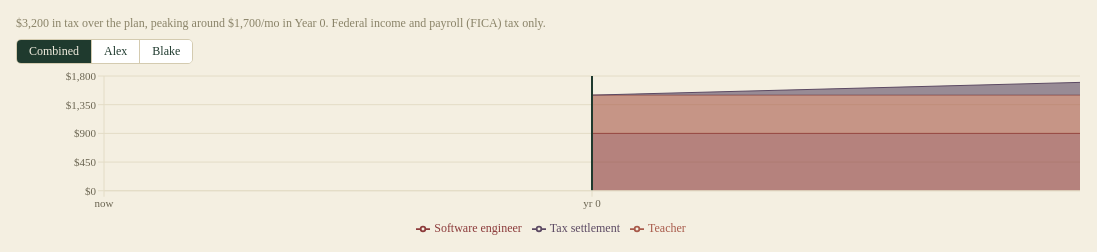
TaxChart — whose tax › gives a person their own peak month, not the household's
The image size is (1097, 252).
Expected: the text with test id "tax-summary" shows "peaking around $1,700/mo", [16,16,546,30]
Click the button "Alex".
click(115, 52)  # box [91,40,139,63]
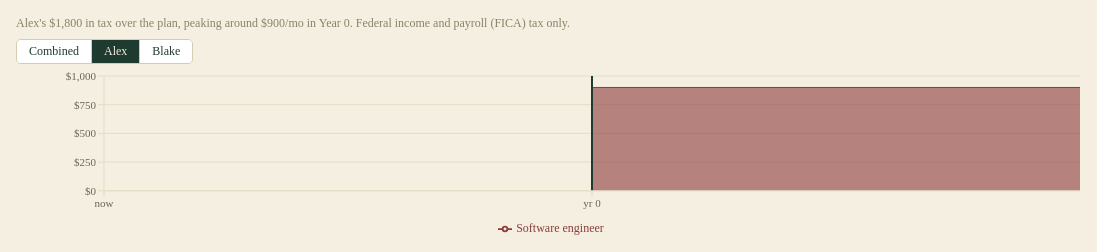
Expected: the text with test id "tax-summary" shows "peaking around $900/mo", [16,16,570,30]
